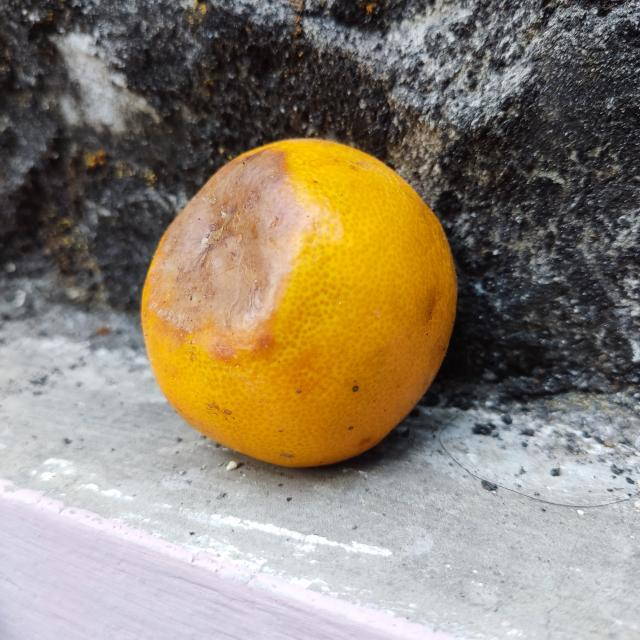orange: (144, 138, 458, 469)
